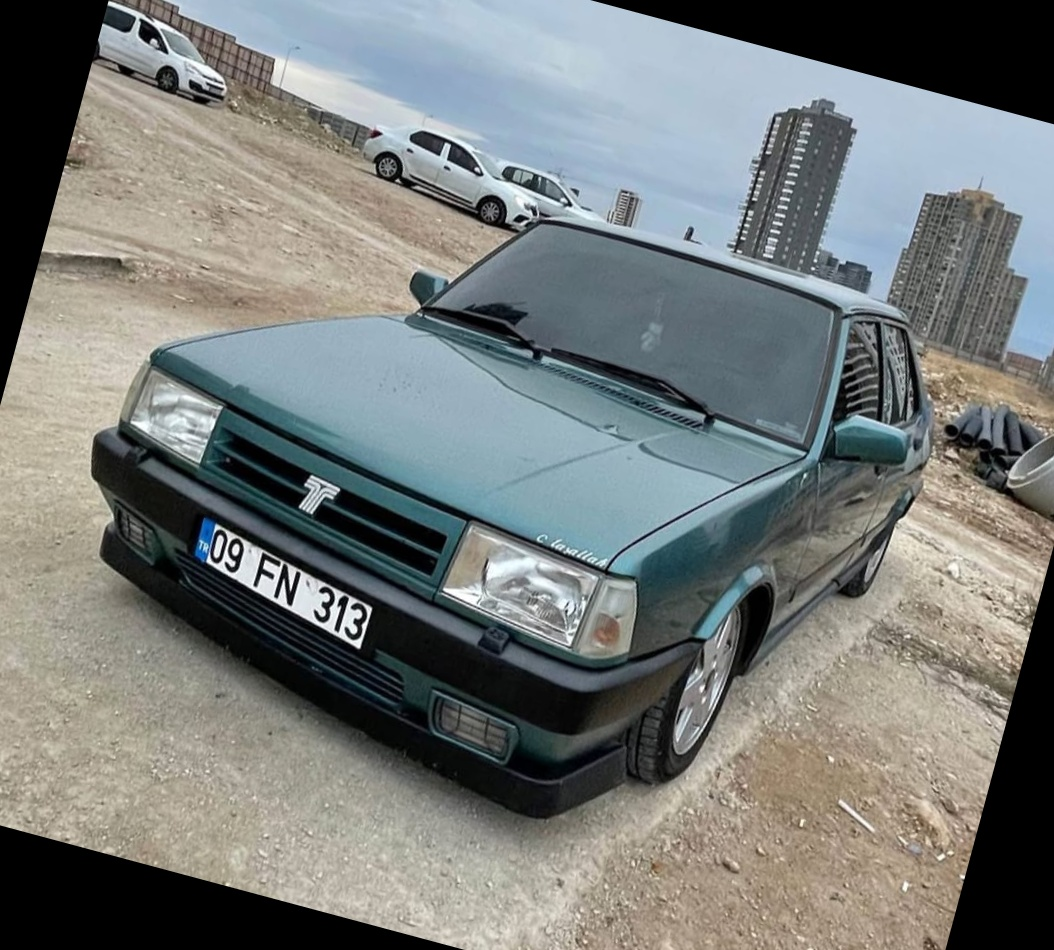plaka: (204, 524, 370, 650)
